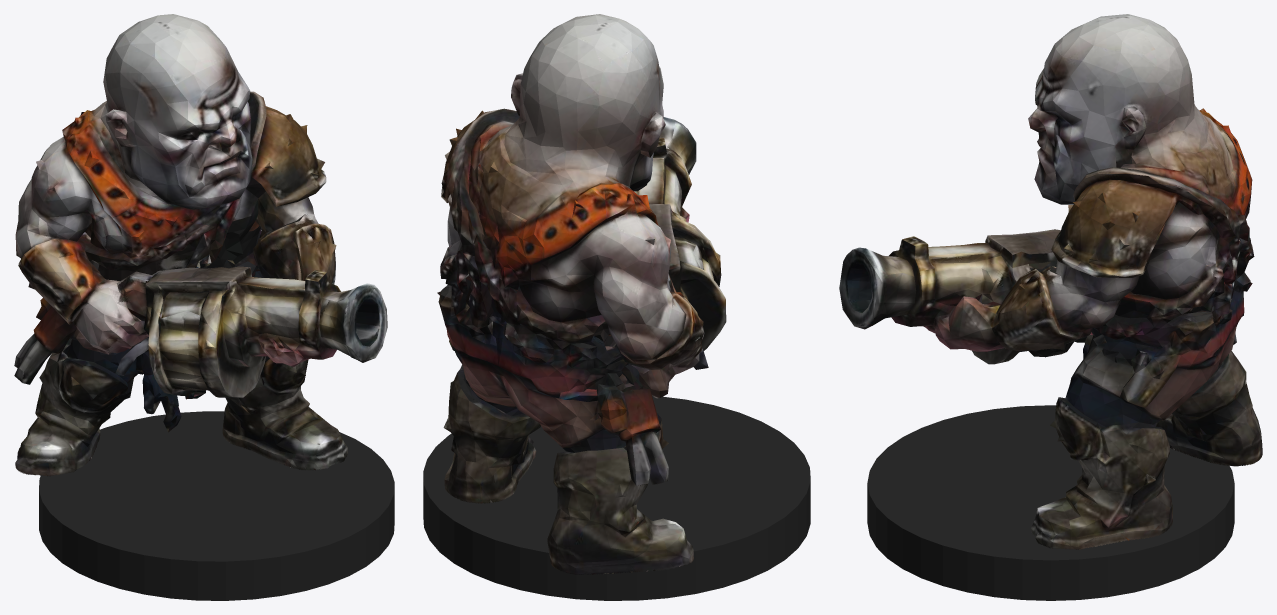
Rendered from goliath-bruiser-specialist-grenade-launcher.glb.
3 views of the same model, side by side, from view 1: azimuth 30°, elevation 25°; view 2: azimuth 150°, elevation 25°; view 3: azimuth 270°, elevation 25° (orthographic). The views are drawn at different scales.
Parts seen in each view (by area): view 1: figure, base; view 2: figure, base; view 3: figure, base.
Part boxes in pixels (box(x1,y1,x2,y2)): figure: box(14, 14, 387, 476); base: box(39, 411, 394, 600); figure: box(437, 14, 726, 574); base: box(423, 396, 810, 600); figure: box(839, 14, 1262, 549); base: box(867, 405, 1234, 600).
Size of the model in its own units: 0.9843 by 1.47 by 1.14.
2 materials, 1 textured.
